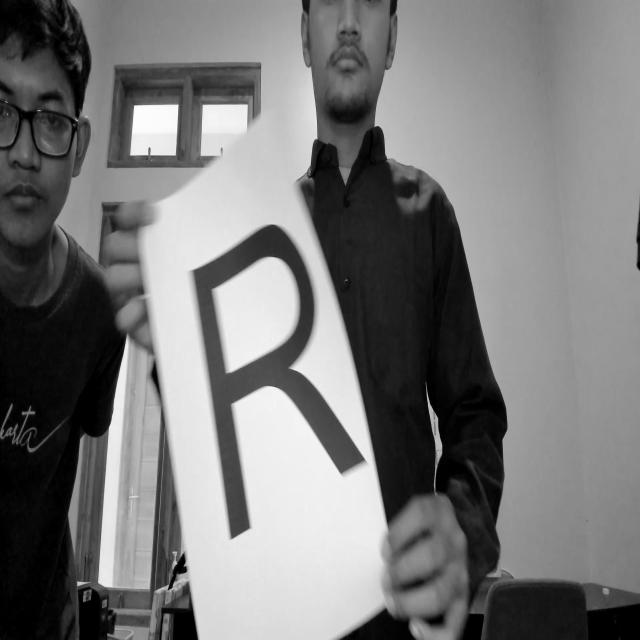r: (174, 224, 384, 542)
